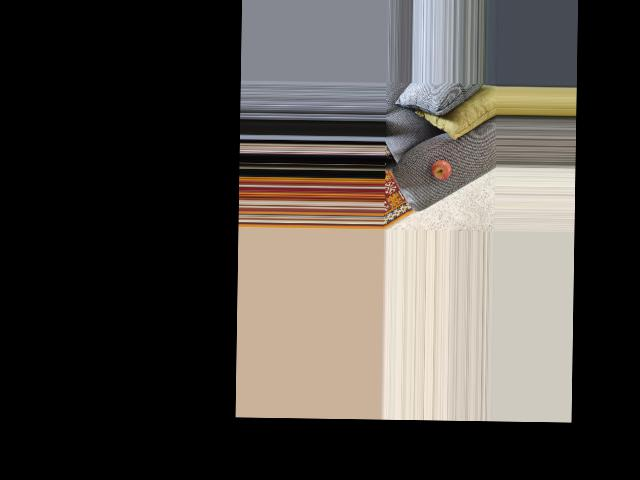apple: (429, 158, 451, 180)
